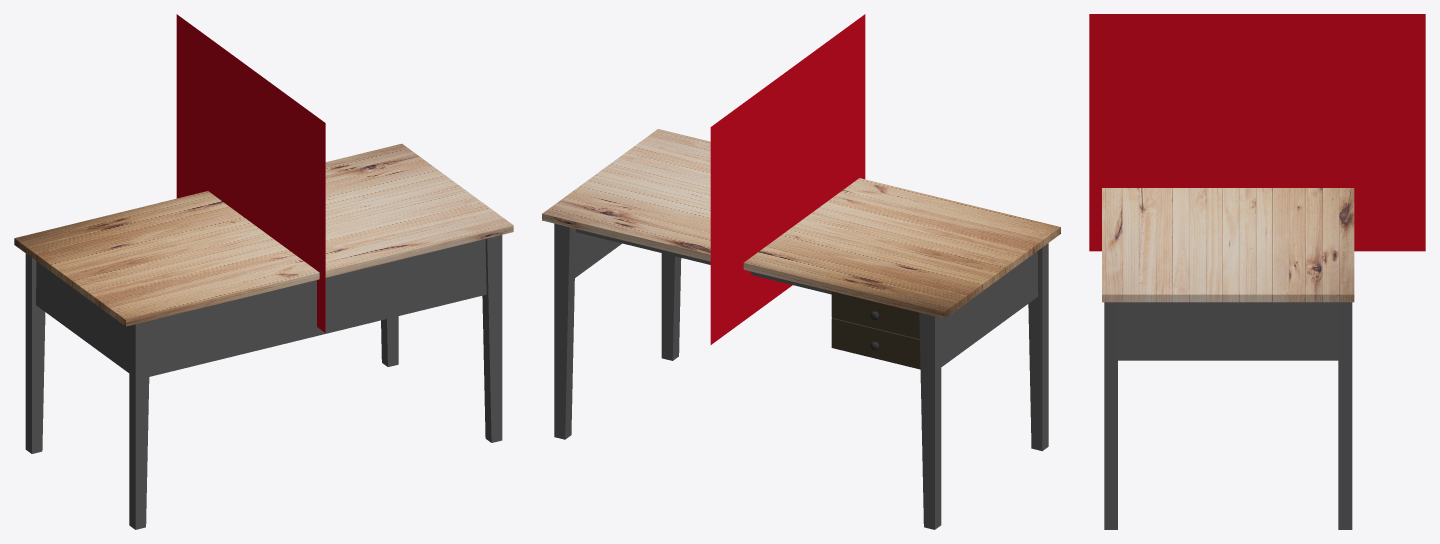
File: Zregular desk 1 reference plane.glb
The picture shows the model from 3 angles, left to right: view 1: azimuth 30°, elevation 25°; view 2: azimuth 150°, elevation 25°; view 3: azimuth 270°, elevation 25°; orthographic projection. The views are drawn at different scales.
Visible parts, largest first — view 1: Plane, Cube, Cube.003; view 2: Plane, Cube.003, Cube, Cube.001; view 3: Cube.003, Plane, Cube.
Boxes of the visible parts, x1,y1,x2,y2 form: Plane: [14, 143, 513, 326]; Cube: [25, 235, 502, 529]; Cube.003: [176, 14, 325, 332]; Plane: [542, 129, 1060, 318]; Cube.003: [710, 14, 865, 344]; Cube: [554, 223, 1048, 529]; Cube.001: [831, 291, 920, 369]; Cube.003: [1089, 14, 1425, 251]; Plane: [1102, 188, 1354, 302]; Cube: [1104, 302, 1352, 529].
Bounding box in the file's own units: 59.86 × 54.13 × 39.8.
5 materials, 1 textured.
